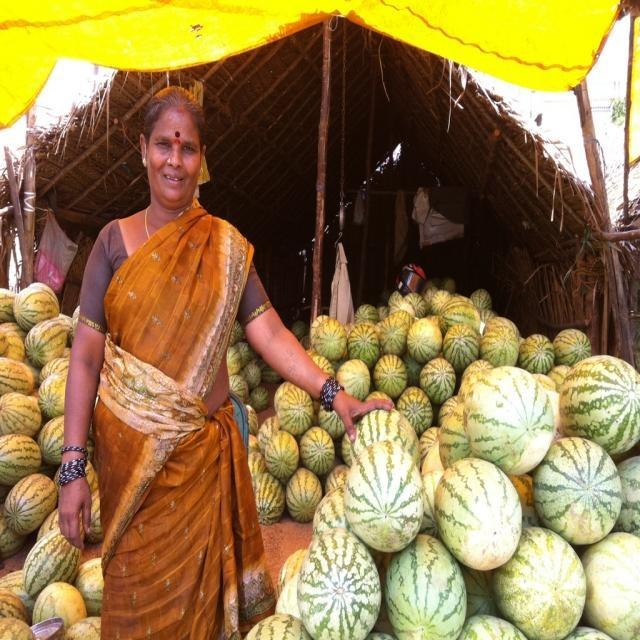Watermelon: (0, 279, 639, 639)
